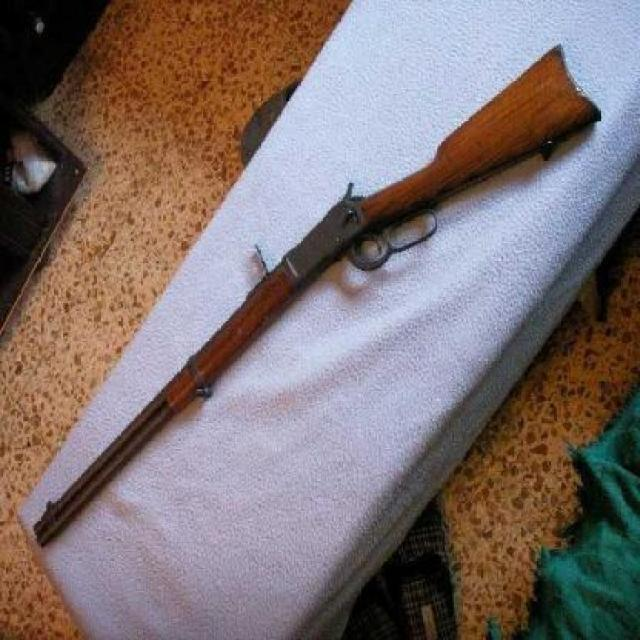weapon: (54, 62, 600, 540)
